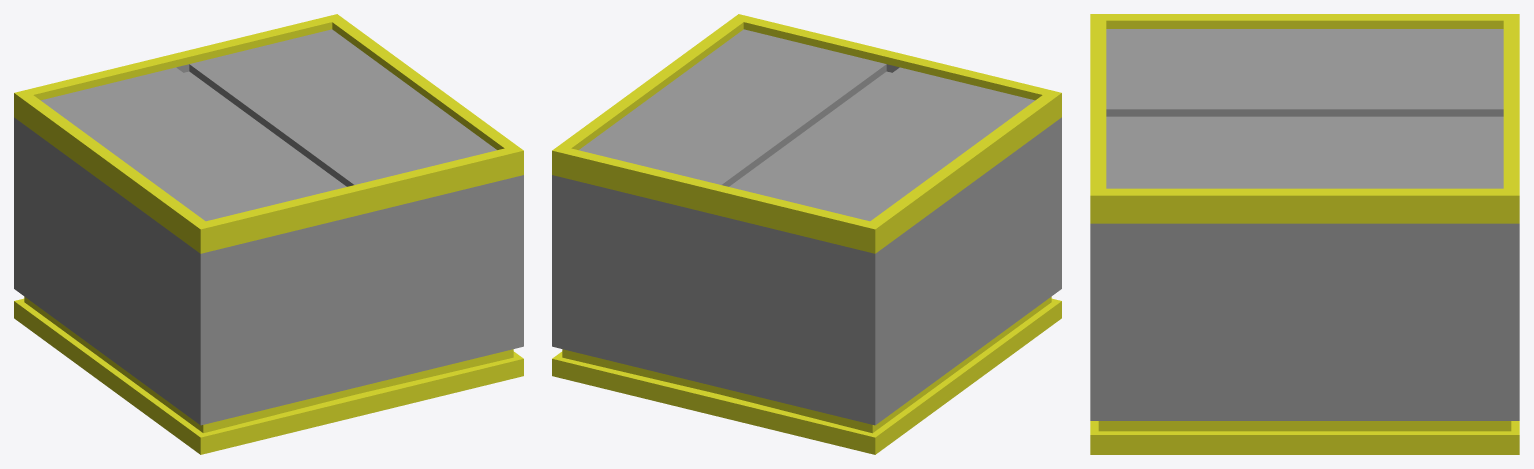
Rendered from ItemSpawner.fbx.
3 views of the same model, side by side, from view 1: azimuth 30°, elevation 25°; view 2: azimuth 150°, elevation 25°; view 3: azimuth 270°, elevation 25° (orthographic). The views are drawn at different scales.
Visible parts, largest first — view 1: Table__21_; view 2: Table__21_; view 3: Table__21_.
Boxes of the visible parts, x1=… form: Table__21_: x1=14, y1=14, x2=523, y2=454; Table__21_: x1=552, y1=14, x2=1061, y2=454; Table__21_: x1=1090, y1=14, x2=1519, y2=454.
Bounding box in the file's own units: 150 × 100 × 150.
